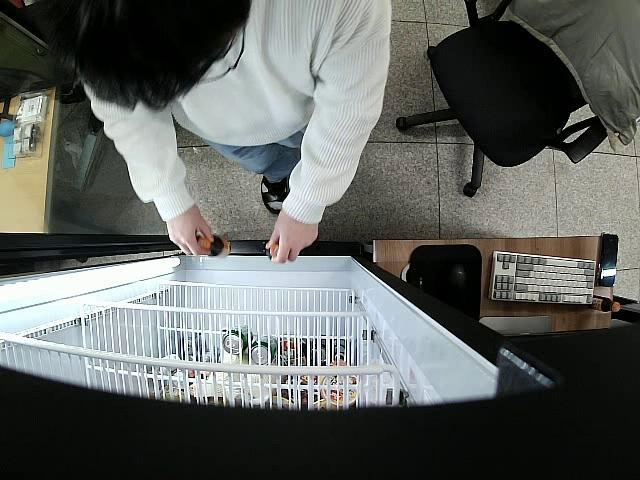17_vita500: (196, 236, 231, 256), (266, 242, 279, 260)
